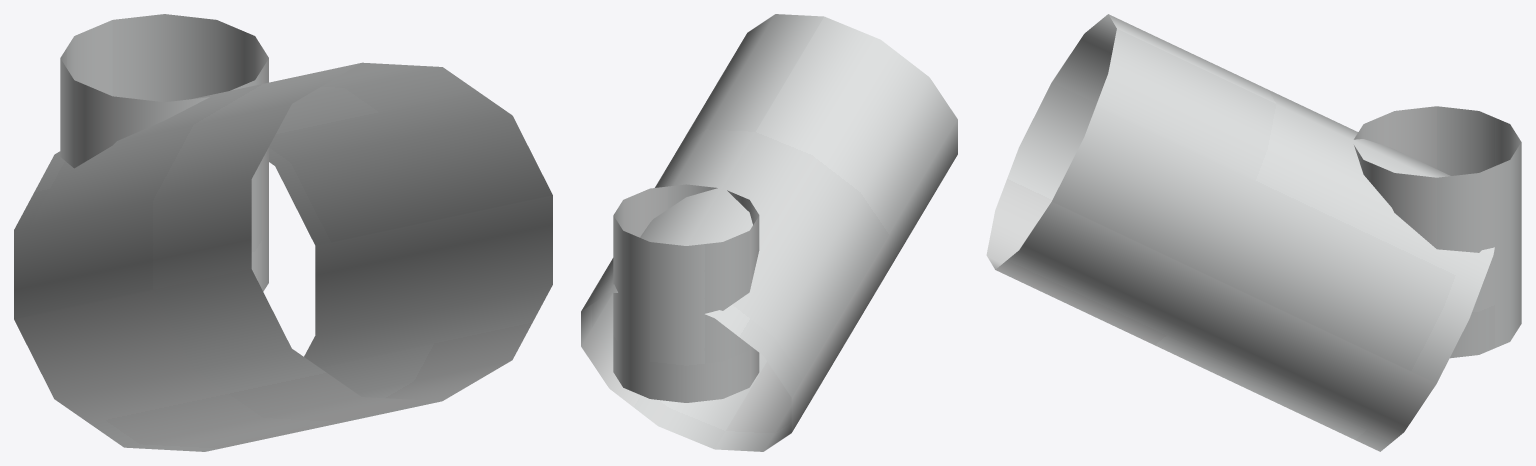
File: luminairearm_truss15ftdouble_c16.obj
3 renders of one model, left to right at view 1: azimuth 30°, elevation 25°; view 2: azimuth 150°, elevation 25°; view 3: azimuth 270°, elevation 25°, orthographic. The views are drawn at different scales.
Visible parts, largest first — view 1: luminairearm_truss15ftdouble_c16; view 2: luminairearm_truss15ftdouble_c16; view 3: luminairearm_truss15ftdouble_c16.
Boxes of the visible parts, left/top/right/bottom form: luminairearm_truss15ftdouble_c16: left=14, top=14, right=552, bottom=451; luminairearm_truss15ftdouble_c16: left=581, top=14, right=957, bottom=451; luminairearm_truss15ftdouble_c16: left=986, top=14, right=1521, bottom=451.
Bounding box in the file's own units: 0.1562 × 0.2498 × 0.2963.
